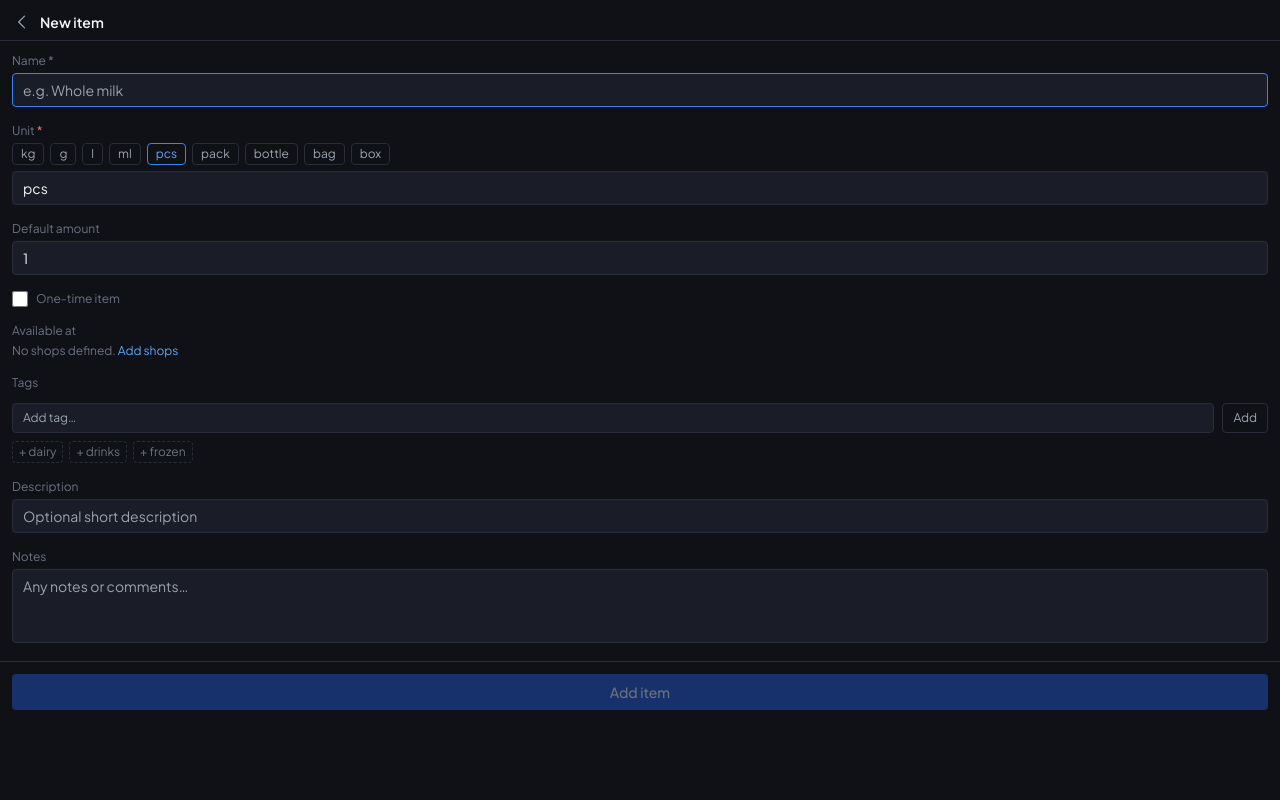
Test: ItemDetailScreen — tag filtering › filters the tag list as the user types
Type "dr" into the field with placeholder "Add tag…" at x=613, y=418, box [12,403,1214,433]
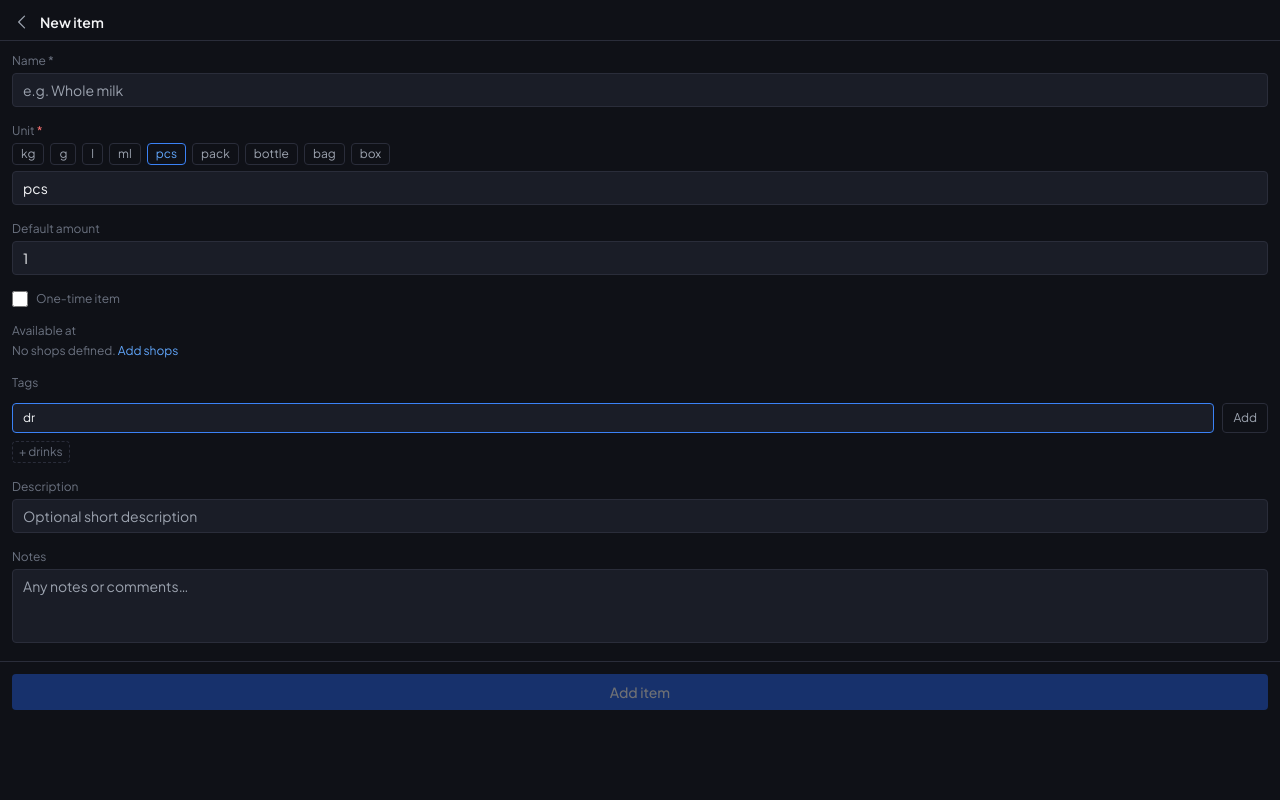
Expected: the button "+ drinks" is shown, [12,441,70,463]
Expected: the button "+ dairy" is gone
Expected: the button "+ frozen" is gone
